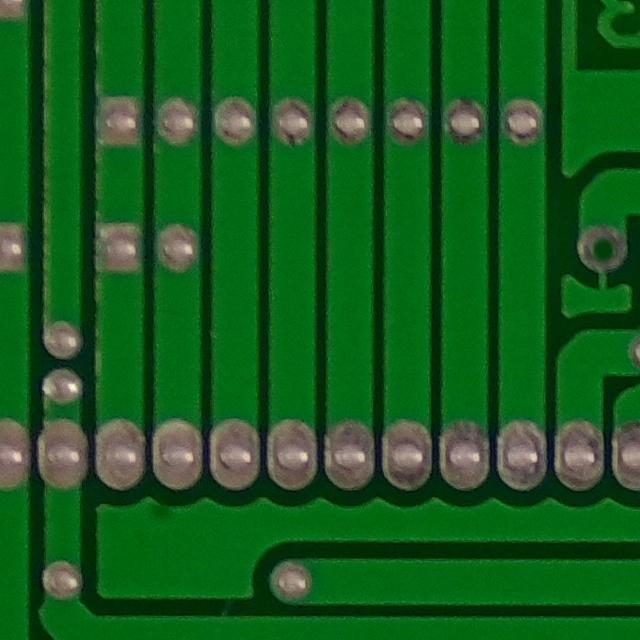missing_hole: (570, 210, 640, 286)
